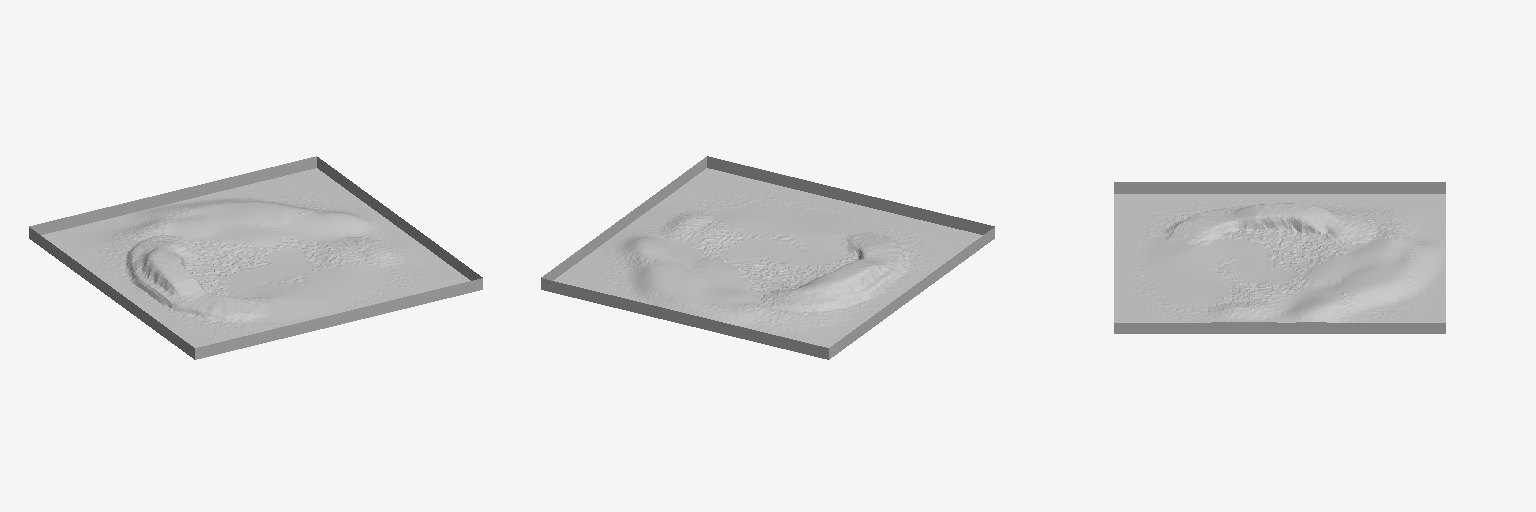
Rendered from car-prison.obj.
The picture shows the model from 3 angles: view 1: azimuth 30°, elevation 25°; view 2: azimuth 150°, elevation 25°; view 3: azimuth 270°, elevation 25°; orthographic projection.
Parts seen in each view (by area): view 1: Landscape; view 2: Landscape; view 3: Landscape.
Boxes of the visible parts, x1=… form: Landscape: x1=29, y1=156, x2=482, y2=359; Landscape: x1=541, y1=156, x2=994, y2=359; Landscape: x1=1114, y1=182, x2=1445, y2=333.
Bounding box in the file's own units: 256 × 13.6 × 256.